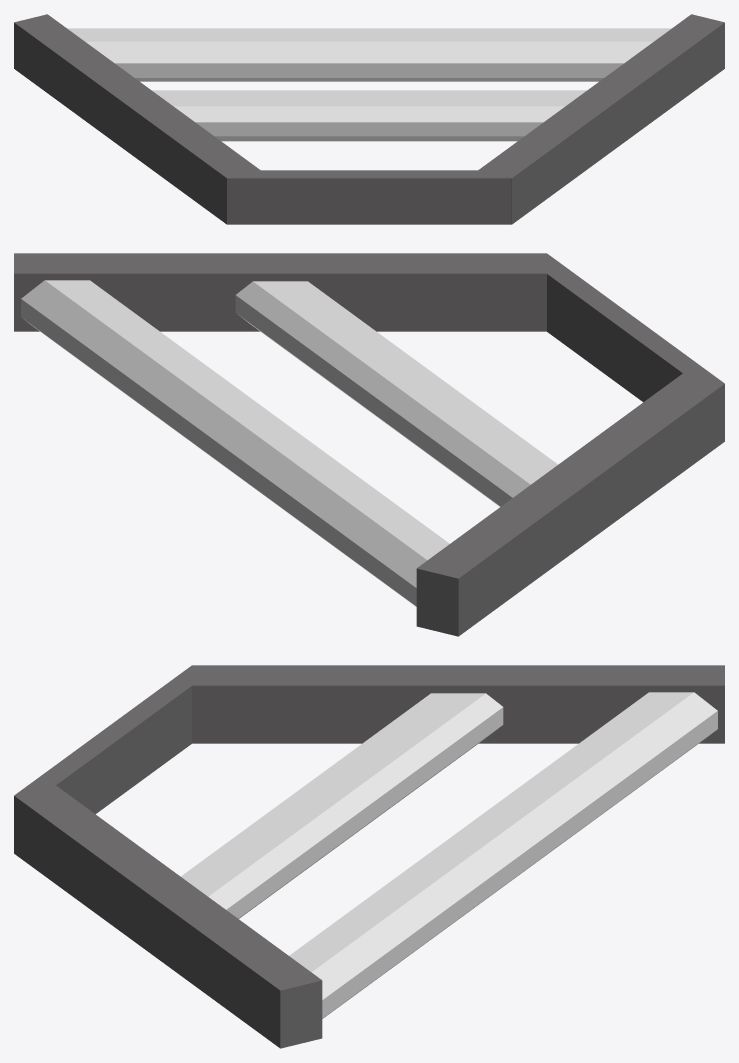
Rendered from Arma.fbx.
The picture shows the model from 3 angles, top to bottom: view 1: azimuth 30°, elevation 25°; view 2: azimuth 150°, elevation 25°; view 3: azimuth 270°, elevation 25°; orthographic projection. The views are drawn at different scales.
Parts seen in each view (by area): view 1: Cube.001; view 2: Cube.001; view 3: Cube.001.
Boxes of the visible parts, x1,y1,x2,y2 form: Cube.001: (14,14,724,224); Cube.001: (14,253,724,636); Cube.001: (14,665,724,1048).
Size of the model in its own units: 722 by 60.03 by 667.
2 materials, 1 textured.
